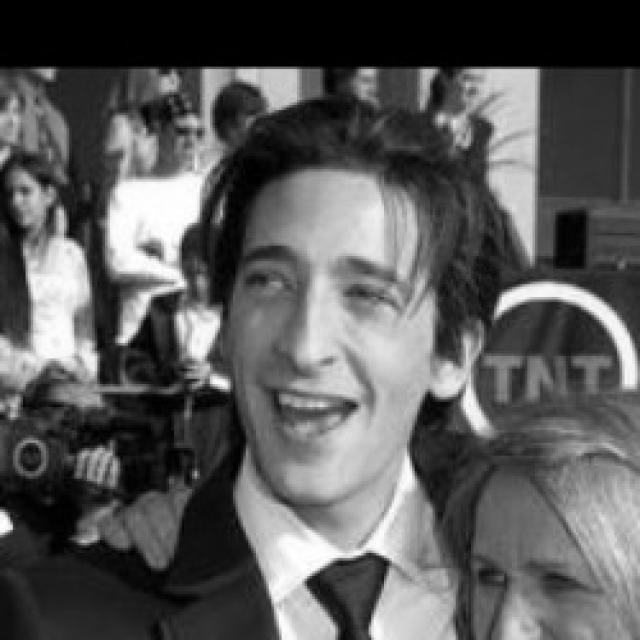real: (233, 168, 434, 513), (247, 261, 410, 315)
